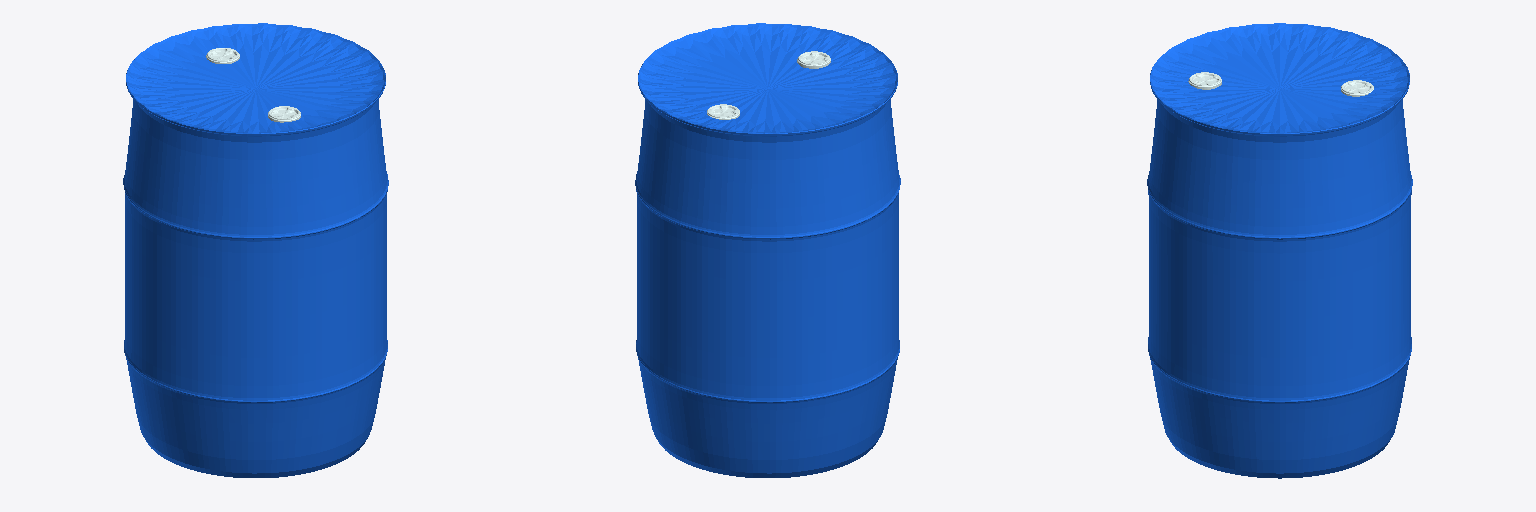
The model's file is Blue_Barrel.obj.
3 views of the same model, side by side, from view 1: azimuth 30°, elevation 25°; view 2: azimuth 150°, elevation 25°; view 3: azimuth 270°, elevation 25° (orthographic).
Visible parts, largest first — view 1: Cylinder.046_Cylinder.007; view 2: Cylinder.046_Cylinder.007; view 3: Cylinder.046_Cylinder.007.
Boxes of the visible parts, <box> form: Cylinder.046_Cylinder.007: <box>123,23,388,477</box>; Cylinder.046_Cylinder.007: <box>635,23,900,477</box>; Cylinder.046_Cylinder.007: <box>1147,23,1412,478</box>.
Bounding box in the file's own units: 0.5972 × 0.8828 × 0.5972.